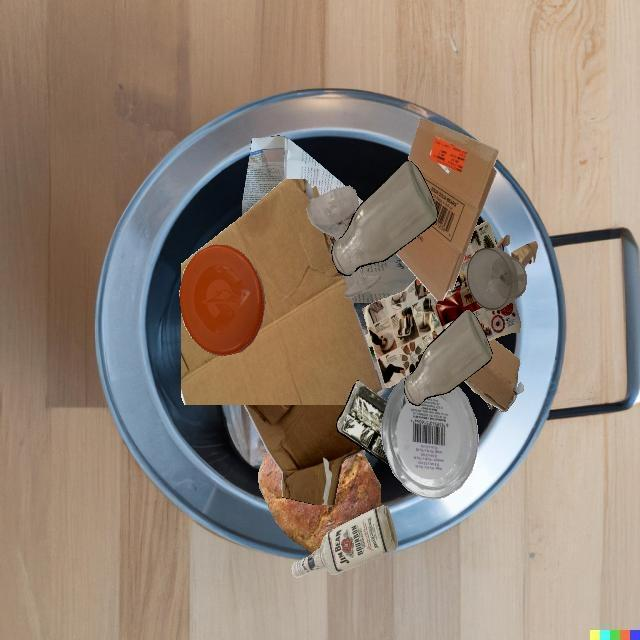biowaste: (258, 451, 381, 553)
cardboard: (181, 179, 382, 405), (395, 118, 499, 301), (244, 405, 363, 505), (493, 248, 524, 406), (464, 339, 524, 412)
glass: (331, 160, 438, 276), (404, 310, 492, 406), (291, 506, 398, 578), (466, 248, 527, 311), (306, 186, 359, 241), (344, 267, 381, 298), (365, 334, 377, 359), (458, 385, 458, 386)
paper: (362, 221, 520, 388), (242, 136, 322, 216), (351, 253, 417, 303)
plastic: (381, 372, 478, 499), (179, 245, 265, 356), (336, 380, 391, 467)
